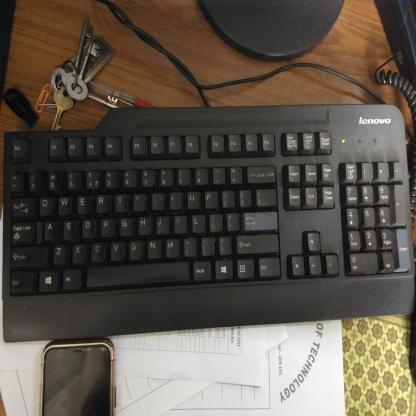keyboard: (16, 29, 82, 61)
